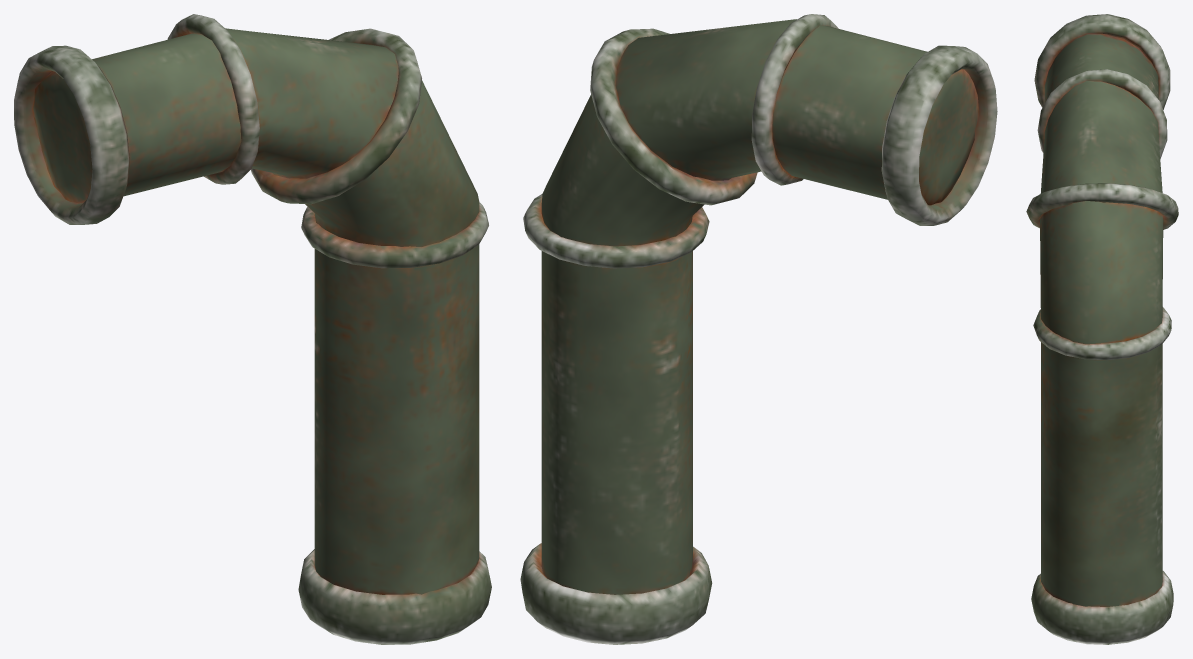
File: pipe_4.glb
The picture shows the model from 3 angles, left to right: view 1: azimuth 30°, elevation 25°; view 2: azimuth 150°, elevation 25°; view 3: azimuth 270°, elevation 25°; orthographic projection. The views are drawn at different scales.
Visible parts, largest first — view 1: Pipes5_Material #271_0; view 2: Pipes5_Material #271_0; view 3: Pipes5_Material #271_0.
Part boxes in pixels (x1=…): Pipes5_Material #271_0: x1=14, y1=14, x2=491, y2=644; Pipes5_Material #271_0: x1=520, y1=14, x2=997, y2=644; Pipes5_Material #271_0: x1=1026, y1=14, x2=1178, y2=644.
Bounding box in the file's own units: 0.6065 × 0.865 × 0.2476.
Materials: 1 (1 with a texture image).
